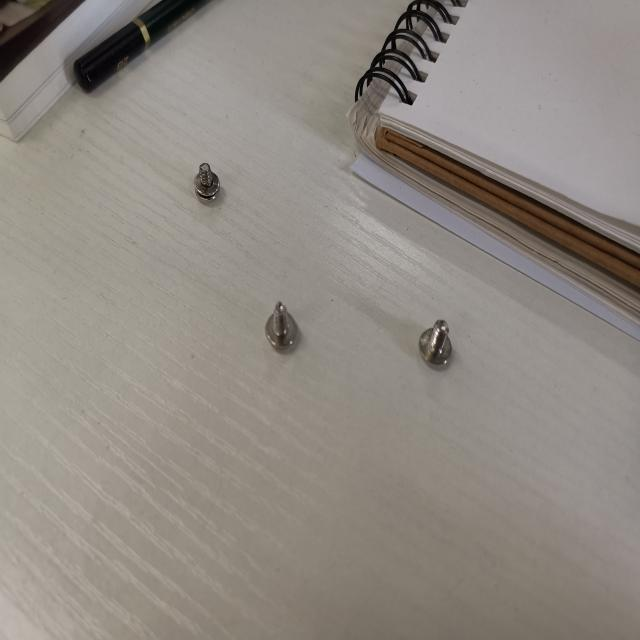Screw: (416, 317, 456, 372), (264, 298, 300, 354), (190, 158, 223, 207)
